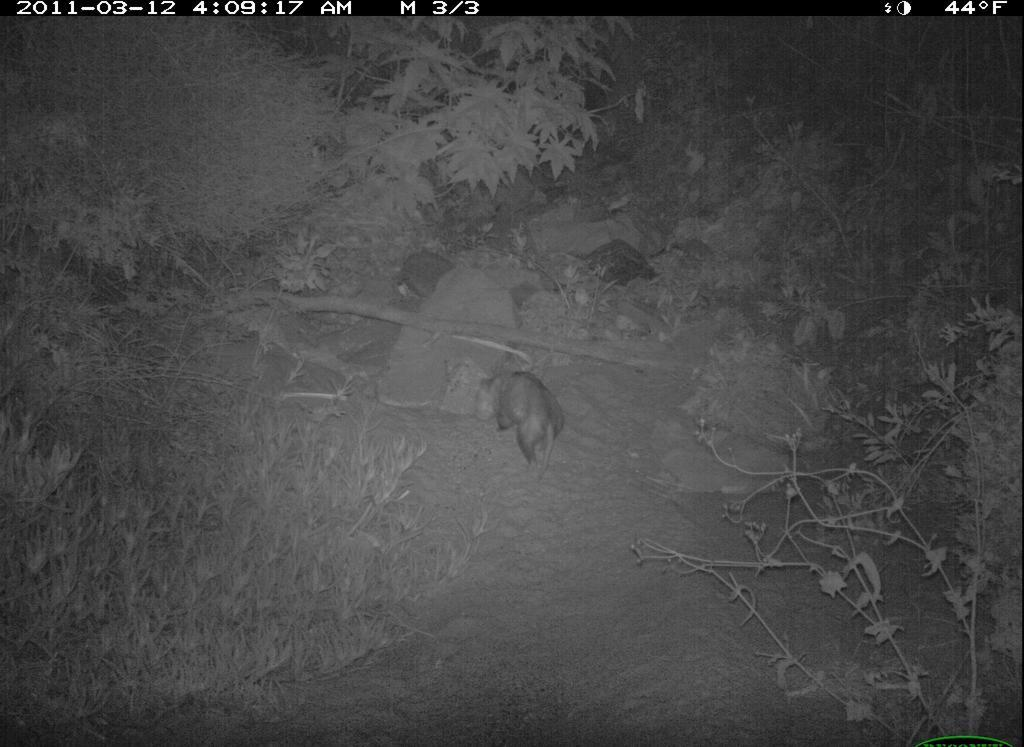opossum: (474, 365, 574, 482)
